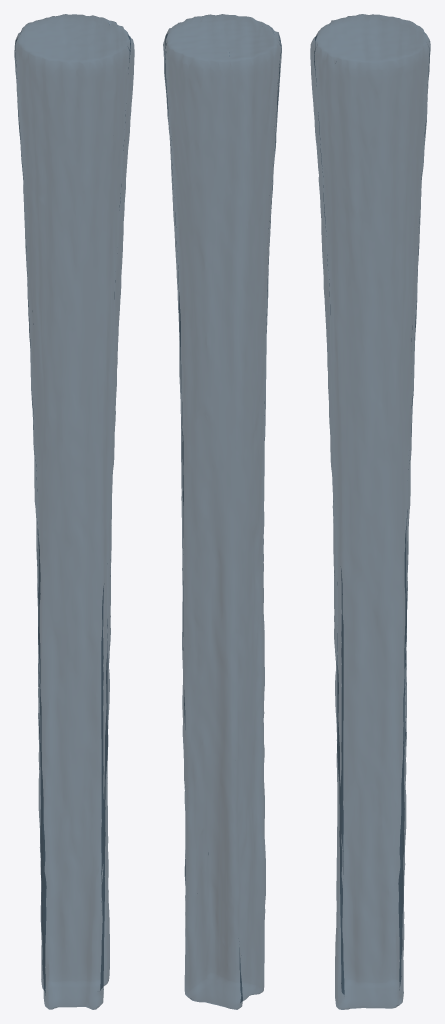
Rendered from water_7.dae.
3 views of the same model, side by side, from view 1: azimuth 90°, elevation 25°; view 2: azimuth 150°, elevation 25°; view 3: azimuth 270°, elevation 25° (orthographic).
Visible parts, largest first — view 1: Water_stream_001; view 2: Water_stream_001; view 3: Water_stream_001.
Boxes of the visible parts, box(x1,y1,x2,y2) form: Water_stream_001: box(14, 14, 134, 1009); Water_stream_001: box(163, 14, 281, 1009); Water_stream_001: box(310, 14, 430, 1009).
Size of the model in its own units: 0.0642 by 0.0642 by 0.5662.
